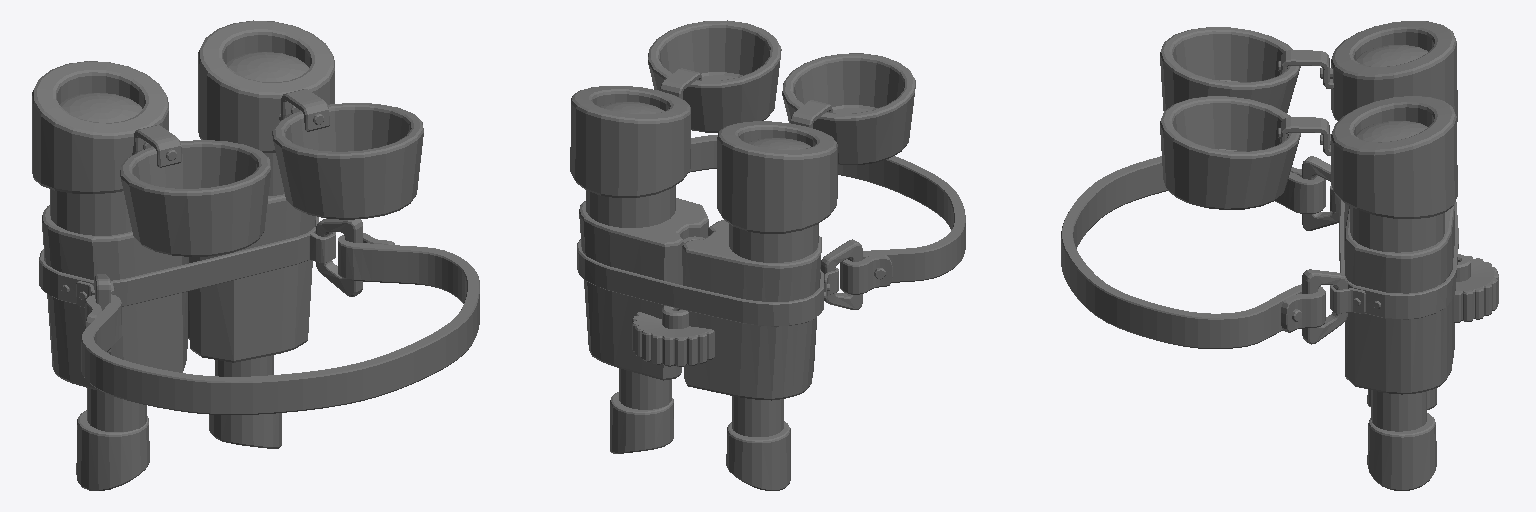
The robot description file, URDF, robot "object":
<?xml version="1.0"?>
<robot name="object">
  <link name="object">
    <visual>
      <origin xyz="0 0 0"/>
      <geometry>
        <mesh
          filename="../../mesh/oakink_virtual/binoculars_8.stl" />
      </geometry>
      <material name="mat">
        <color rgba="0.5 0.5 0.5 1"/>
      </material>
    </visual>

    <collision>
      <origin xyz="0 0 0"/>
      <geometry>
        <mesh
          filename="../../mesh/oakink_virtual/binoculars_8.stl" />
      </geometry>
    </collision>
  </link>
</robot>

--- Render facts (derived) ---
Views: 3 orthographic renders of the robot side by side, from view 1: azimuth 30°, elevation 25°; view 2: azimuth 150°, elevation 25°; view 3: azimuth 270°, elevation 25°.
Model object with 1 links and 0 joints (none), rooted at object, posed all joints at 0.
Links seen in each view (by area): view 1: object; view 2: object; view 3: object.
Link boxes in pixels (x1,y1,x2,y2): object: (32, 20, 479, 490); object: (570, 20, 965, 490); object: (1061, 21, 1498, 490).
Bounding box of the posed robot: 0.1336 × 0.1457 × 0.1365 m (x, y, z).
1 mesh visuals loaded from 1 distinct referenced files (1 binary STL).